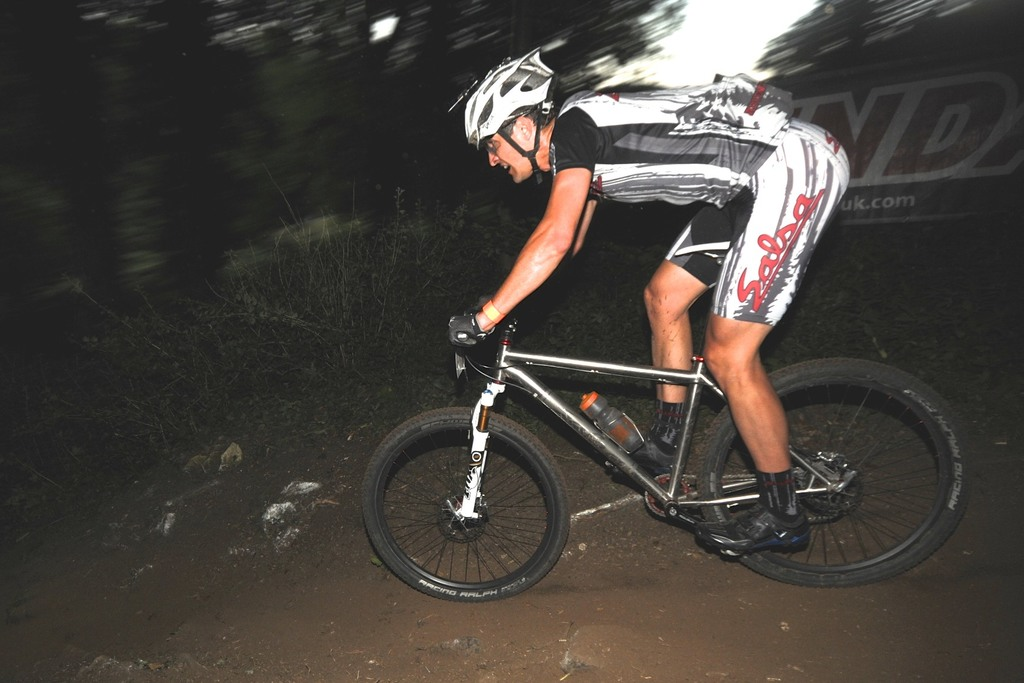Bike_toward: (338, 322, 948, 593)
